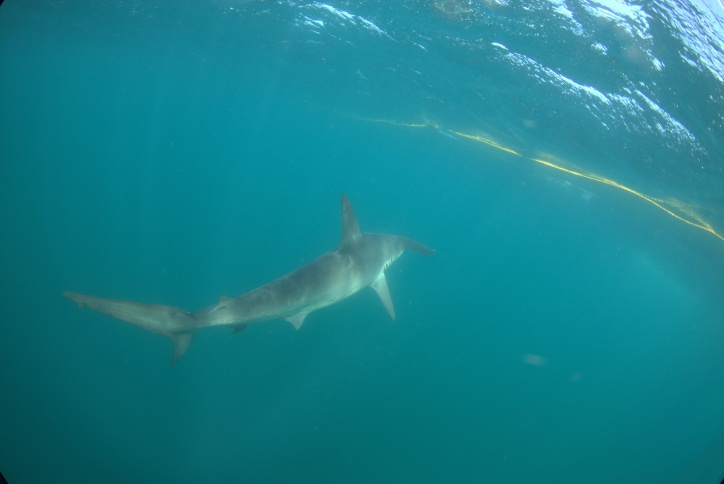Hammer: (72, 177, 445, 356)
